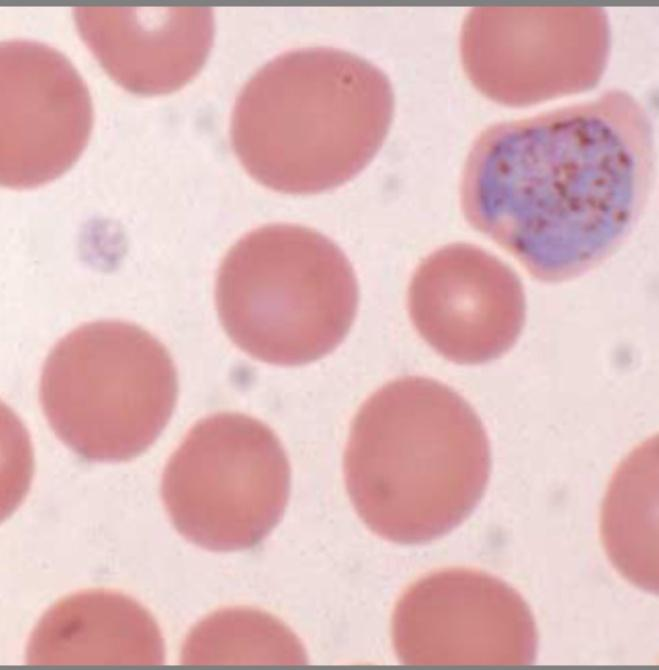Infected: (461, 95, 658, 281)
Uninfected: (230, 46, 397, 196), (344, 378, 491, 543), (213, 224, 360, 367), (41, 319, 176, 461), (160, 414, 290, 550), (409, 243, 528, 366), (461, 7, 611, 104), (393, 569, 538, 667), (67, 6, 215, 98), (0, 38, 89, 190), (23, 588, 167, 666)
